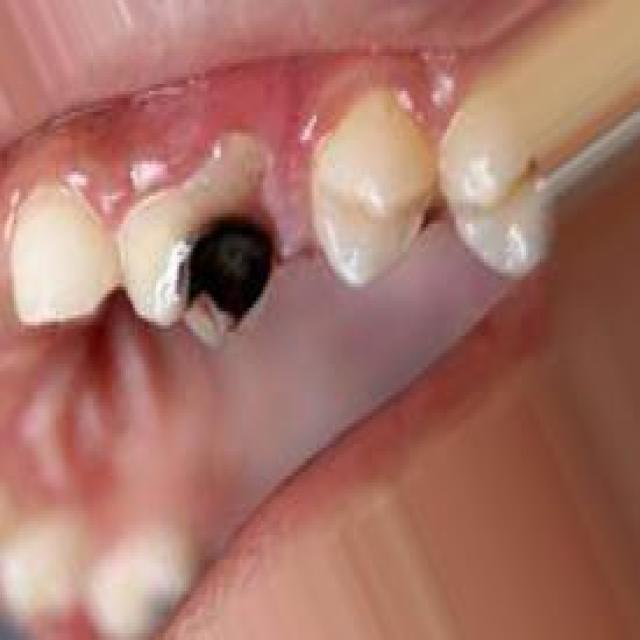caries: (130, 201, 277, 356)
